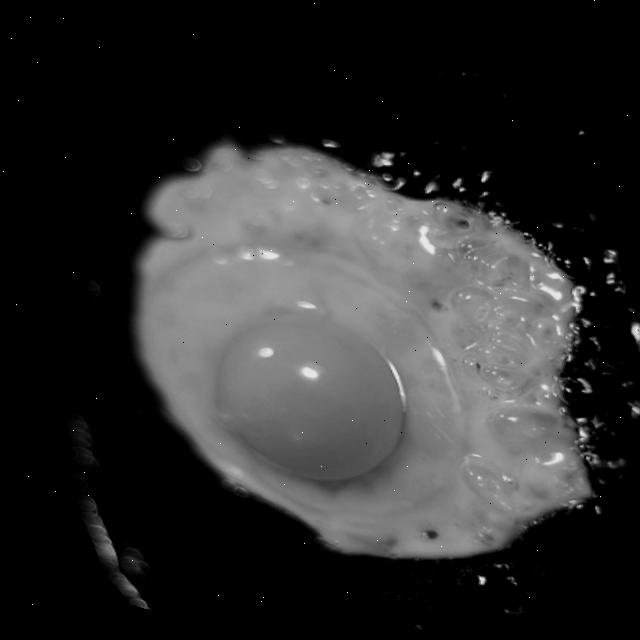鸡蛋料理: (68, 89, 638, 609)
